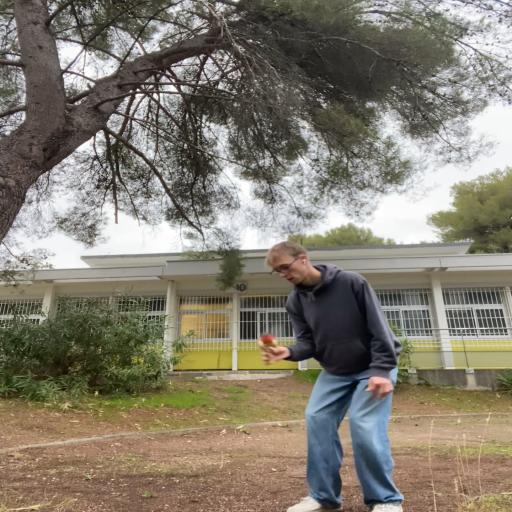kendama_ball: (261, 333, 273, 344)
